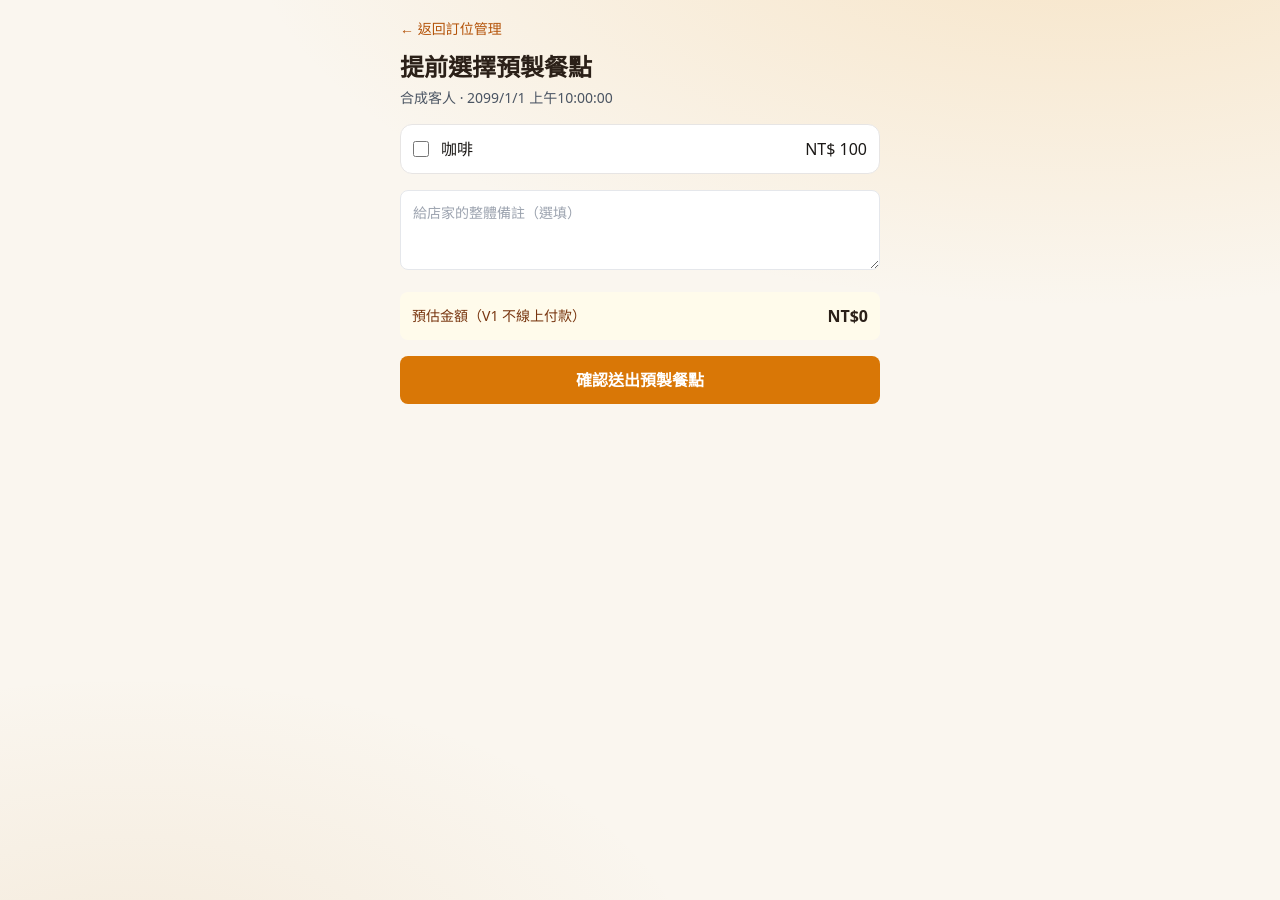
Test: guest preorder recovery › leaves required options editable until the validation problem is resolved
The width and height of the screenshot is (1280, 900).
Step 1. Click the checkbox named "選擇咖啡" → (421, 149), box [413,141,429,157]
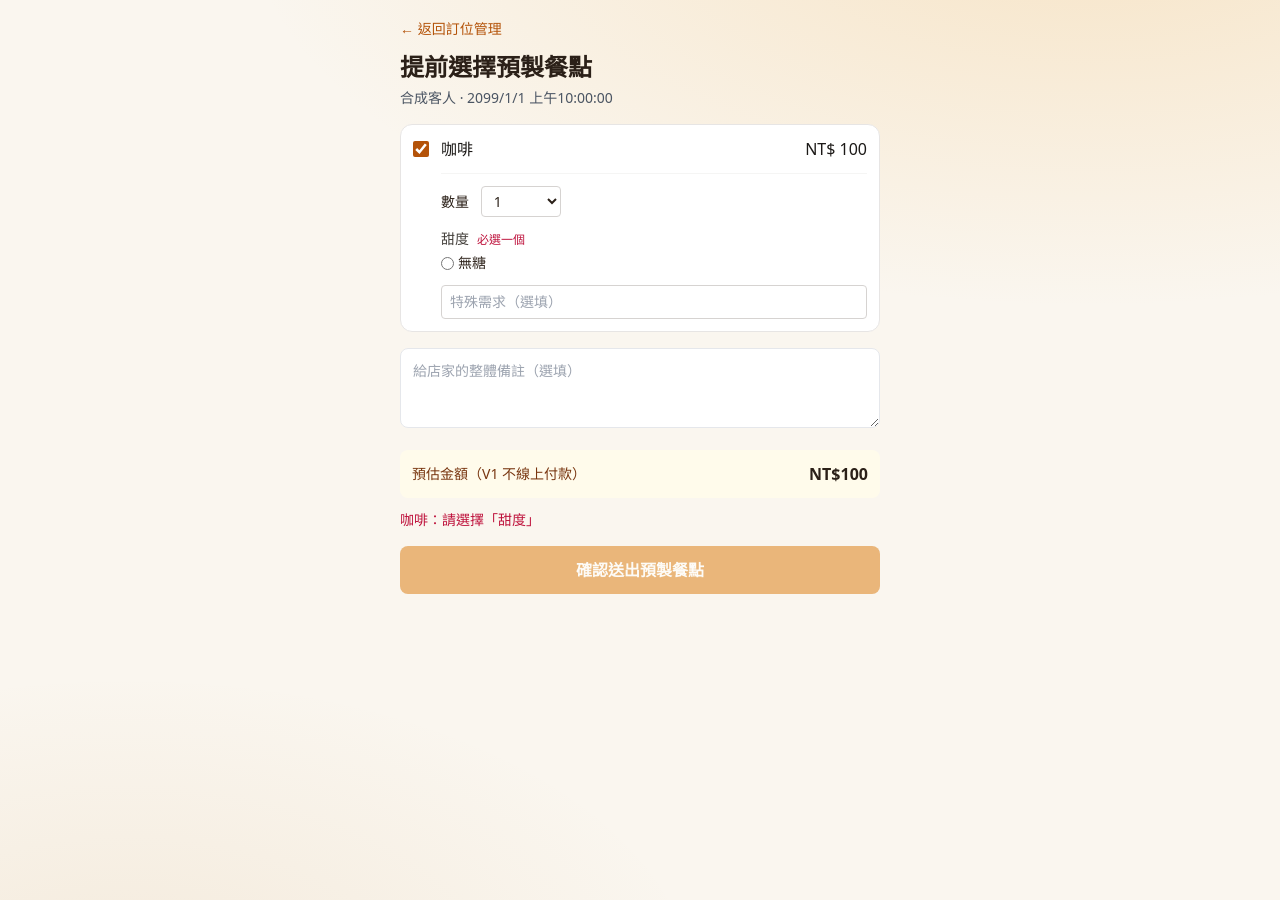
Now the message shows "請選擇", box [400,510,540,529]
Now the button "確認送出預製餐點" is disabled, box [400,546,880,594]
Now the radio button labelled "無糖" is enabled
Step 2. Click the radio button labelled "無糖" → (448, 263), box [441,256,454,270]
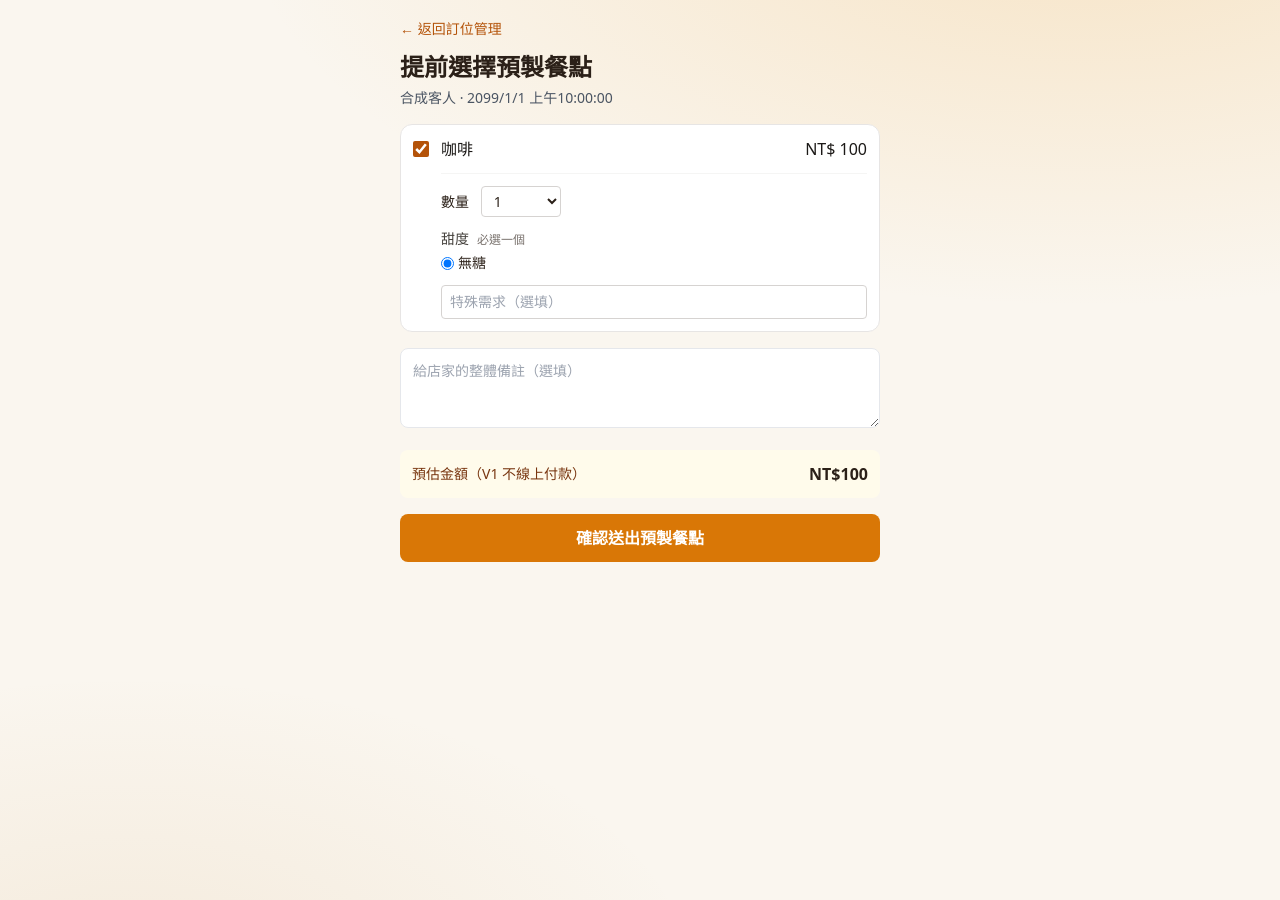
Now the message "咖啡：請選擇「甜度」" is gone
Now the button "確認送出預製餐點" is enabled, box [400,514,880,562]
